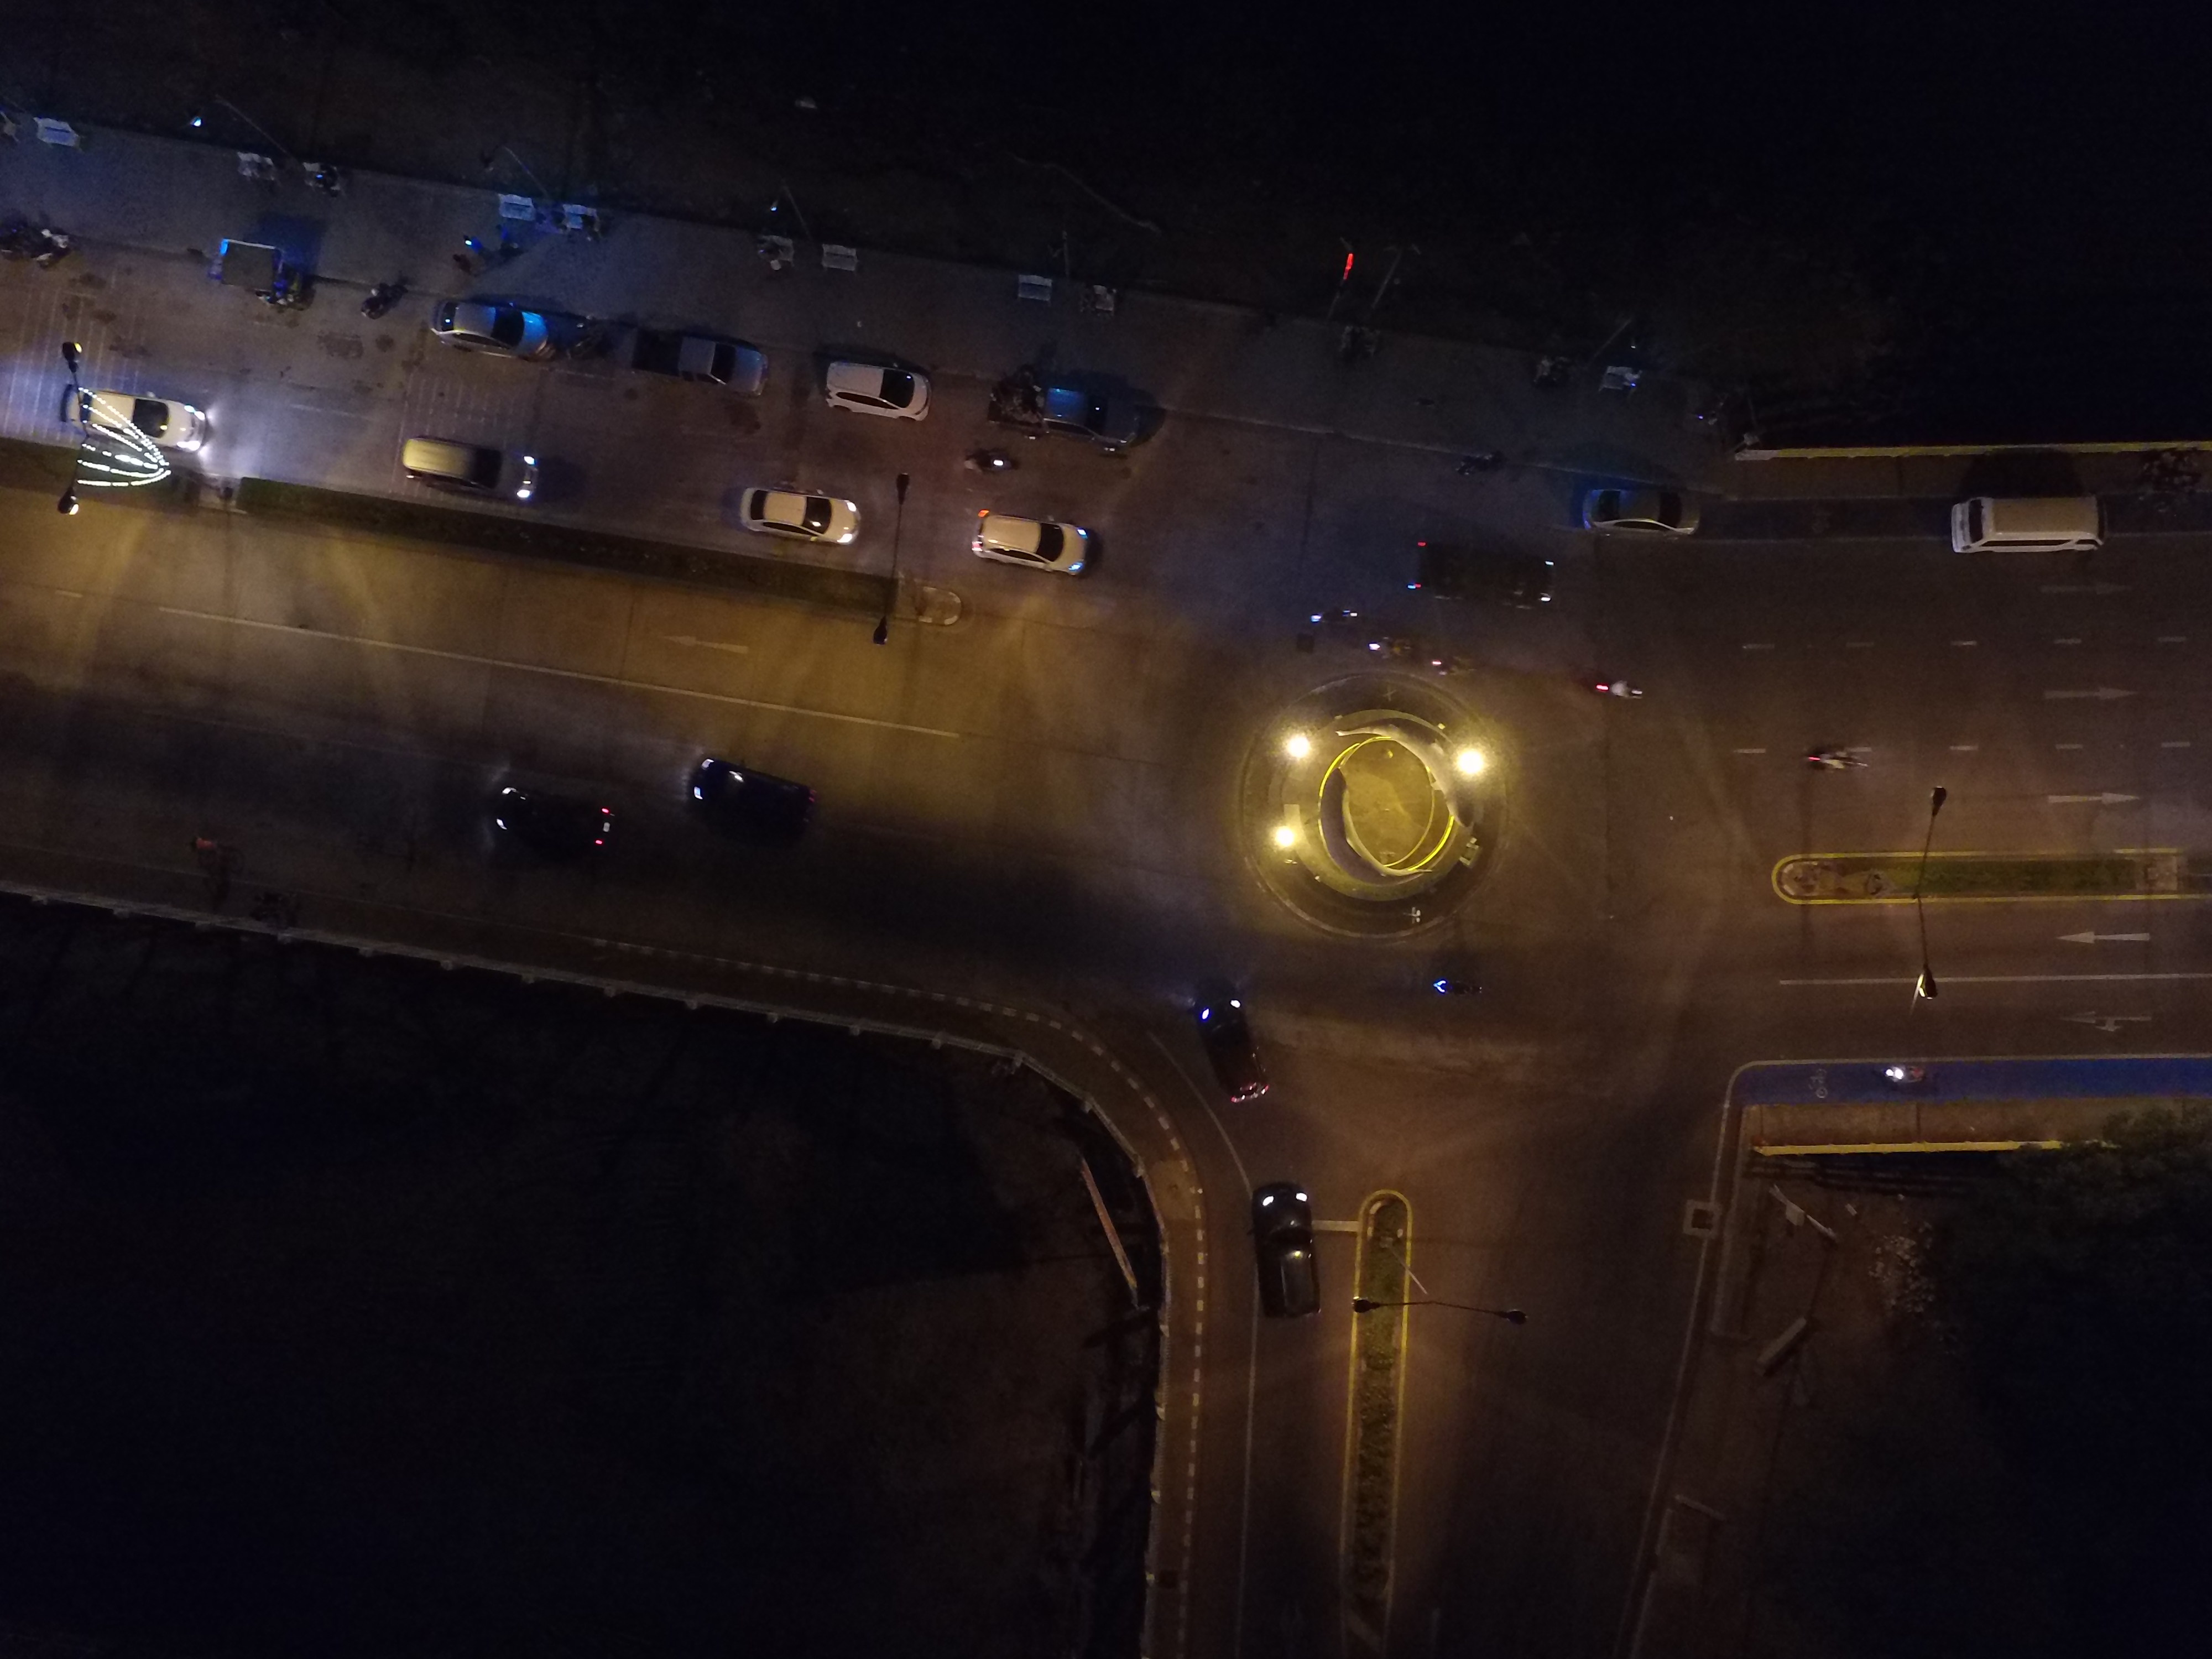car: (941, 490, 1109, 591), (51, 368, 221, 467), (604, 305, 775, 404), (977, 368, 1144, 469), (711, 462, 878, 563), (467, 775, 634, 877), (390, 411, 559, 511), (408, 289, 577, 389), (660, 744, 827, 843), (1559, 467, 1716, 558), (1949, 477, 2106, 568), (1179, 976, 1277, 1114), (1242, 1178, 1339, 1316), (805, 347, 953, 437)
